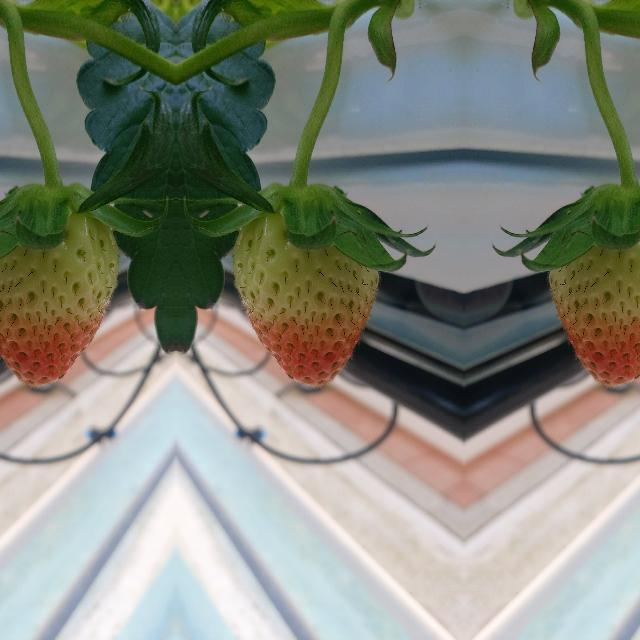Health_50: (230, 202, 380, 388), (0, 202, 120, 387), (546, 202, 640, 387)
